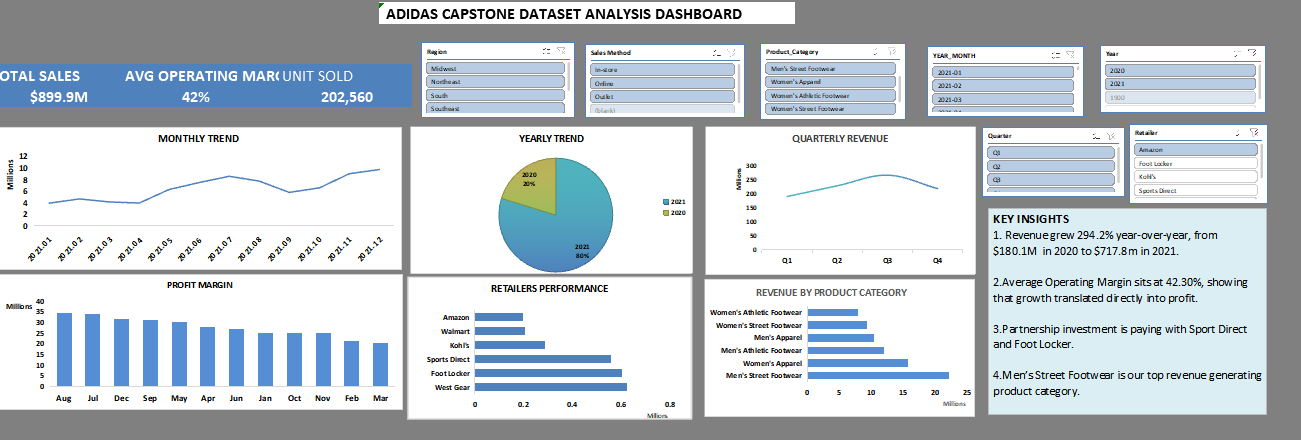

The dashboard page shown, as its layout file describes it:
{"tool":"powerbi","page":{"name":"Page 1","canvas":[1280,720],"ordinal":0},"visuals":[{"type":"cardVisual","fields":{"Data":["ADIDAS SALES ANALYSIS.PROFIT MARGIN"]},"box":[1064.2,60.5,216,133.9],"z":0},{"type":"cardVisual","fields":{"Data":["ADIDAS SALES ANALYSIS.AVEARGE PRICE"]},"box":[826.6,60.5,213.1,133.9],"z":1000},{"type":"cardVisual","fields":{"Data":["ADIDAS SALES ANALYSIS.TOTAL PROFIT"]},"box":[522.7,57.6,226.1,133.9],"z":2000},{"type":"cardVisual","fields":{"Data":["ADIDAS SALES ANALYSIS.TOTAL REVENUE"]},"box":[0,59,221.8,133.9],"z":3000},{"type":"cardVisual","fields":{"Data":["ADIDAS SALES ANALYSIS.TOTAL UNITS SOLD"]},"box":[239,57.6,214.6,135.4],"z":4000},{"type":"slicer","fields":{"Values":["ADIDAS SALES ANALYSIS.Region"]},"box":[0,600.5,177.1,119.5],"z":5000},{"type":"slicer","fields":{"Values":["ADIDAS SALES ANALYSIS.Product_Category"]},"box":[220.3,600.5,184.3,119.5],"z":6000},{"type":"slicer","fields":{"Values":["ADIDAS SALES ANALYSIS.Retailer"]},"box":[440.6,600.5,181.4,119.5],"z":7000},{"type":"slicer","fields":{"Values":["ADIDAS SALES ANALYSIS.Quarter"]},"box":[659.5,600.5,178.6,119.5],"z":8000},{"type":"slicer","fields":{"Values":["ADIDAS SALES ANALYSIS.Sales Method"]},"box":[885.6,603.4,178.6,116.6],"z":9000},{"type":"slicer","fields":{"Values":["ADIDAS SALES ANALYSIS.Year"]},"box":[1100.2,600.5,180,119.5],"z":10000},{"type":"clusteredColumnChart","title":"Total  Revenue by Region","fields":{"Category":["ADIDAS SALES ANALYSIS.Region"],"Y":["ADIDAS SALES ANALYSIS.TOTAL REVENUE"]},"box":[0,205.9,414.7,190.1],"z":11000},{"type":"clusteredBarChart","title":"Total Revenue by Product_Category","fields":{"Y":["Sum(ADIDAS SALES ANALYSIS.Total Sales)"],"Category":["ADIDAS SALES ANALYSIS.Product_Category"]},"box":[440.6,205.9,413.3,178.6],"z":12000},{"type":"barChart","fields":{"Category":["ADIDAS SALES ANALYSIS.Retailer"],"Y":["ADIDAS SALES ANALYSIS.TOTAL PROFIT"]},"box":[874.1,200.2,406.1,190.1],"z":13000},{"type":"textbox","box":[253.4,0,773.3,43.2],"z":14000},{"type":"lineChart","title":"Total  Revenue by Month","fields":{"Y":["ADIDAS SALES ANALYSIS.TOTAL REVENUE"],"Category":["ADIDAS SALES ANALYSIS.YEAR_MONTH.Variation.Date Hierarchy.Month"]},"box":[0,407.5,414.7,177.1],"z":15000},{"type":"donutChart","title":"Total  Revenue by Sales Method","fields":{"Category":["ADIDAS SALES ANALYSIS.Sales Method"],"Y":["ADIDAS SALES ANALYSIS.TOTAL REVENUE"]},"box":[442.1,407.5,411.8,177.1],"z":16000},{"type":"clusteredColumnChart","fields":{"Category":["ADIDAS SALES ANALYSIS.Product_Category"],"Y":["ADIDAS SALES ANALYSIS.TOTAL UNITS SOLD"]},"box":[874.1,407.5,406.1,177.1],"z":17000}]}

Visuals, with their boxes on the page's 1280x720 design canvas (x1, y1, x2, y2). These are canvas units, not pixel positions in the 1301x440 screenshot, which may show the page scaled, cropped or inside an application window:
cardVisual - ADIDAS SALES ANALYSIS.PROFIT MARGIN: box(1064, 60, 1280, 194)
cardVisual - ADIDAS SALES ANALYSIS.AVEARGE PRICE: box(827, 60, 1040, 194)
cardVisual - ADIDAS SALES ANALYSIS.TOTAL PROFIT: box(523, 58, 749, 192)
cardVisual - ADIDAS SALES ANALYSIS.TOTAL REVENUE: box(0, 59, 222, 193)
cardVisual - ADIDAS SALES ANALYSIS.TOTAL UNITS SOLD: box(239, 58, 454, 193)
slicer - ADIDAS SALES ANALYSIS.Region: box(0, 600, 177, 720)
slicer - ADIDAS SALES ANALYSIS.Product_Category: box(220, 600, 405, 720)
slicer - ADIDAS SALES ANALYSIS.Retailer: box(441, 600, 622, 720)
slicer - ADIDAS SALES ANALYSIS.Quarter: box(660, 600, 838, 720)
slicer - ADIDAS SALES ANALYSIS.Sales Method: box(886, 603, 1064, 720)
slicer - ADIDAS SALES ANALYSIS.Year: box(1100, 600, 1280, 720)
"Total  Revenue by Region" clusteredColumnChart: box(0, 206, 415, 396)
"Total Revenue by Product_Category" clusteredBarChart: box(441, 206, 854, 384)
barChart - ADIDAS SALES ANALYSIS.Retailer x ADIDAS SALES ANALYSIS.TOTAL PROFIT: box(874, 200, 1280, 390)
textbox: box(253, 0, 1027, 43)
"Total  Revenue by Month" lineChart: box(0, 408, 415, 585)
"Total  Revenue by Sales Method" donutChart: box(442, 408, 854, 585)
clusteredColumnChart - ADIDAS SALES ANALYSIS.Product_Category x ADIDAS SALES ANALYSIS.TOTAL UNITS SOLD: box(874, 408, 1280, 585)
